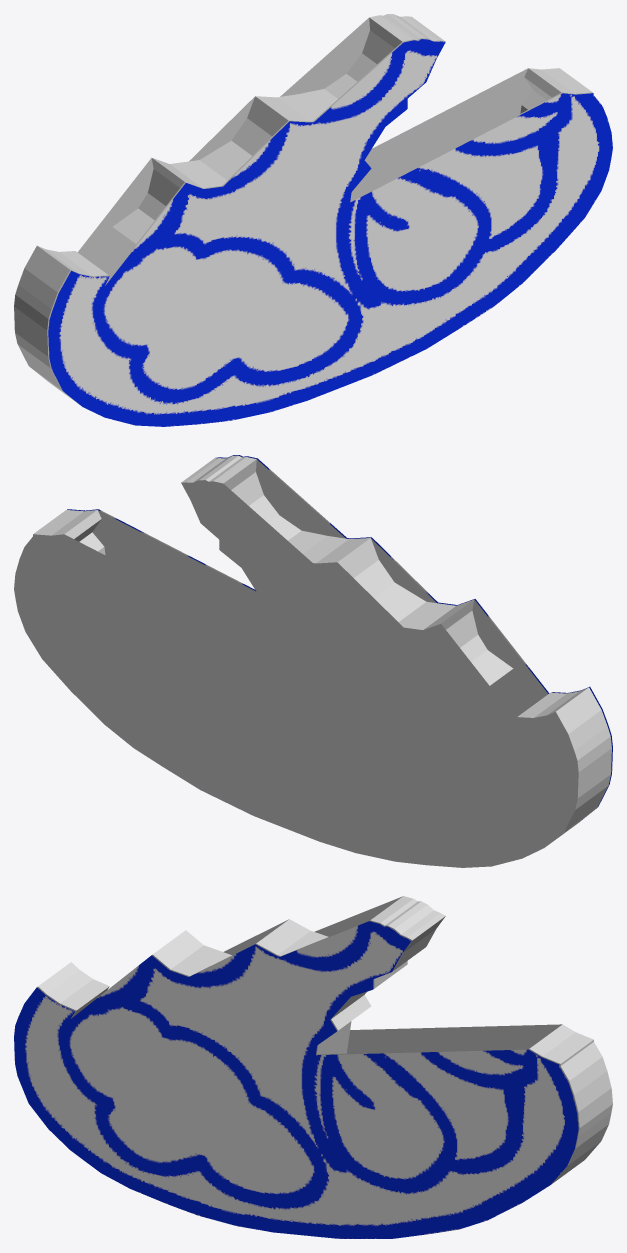
3 renders of one model, top to bottom at view 1: azimuth 30°, elevation 25°; view 2: azimuth 150°, elevation 25°; view 3: azimuth 330°, elevation 25°, orthographic.
Visible parts, largest first — view 1: In_4_1, In_4_0; view 2: In_4_0, In_4_1; view 3: In_4_1, In_4_0.
Part boxes in pixels (box(x1,y1,x2,y2)): In_4_1: box(48, 39, 612, 426); In_4_0: box(14, 14, 592, 404); In_4_0: box(14, 455, 611, 867); In_4_1: box(67, 455, 612, 819); In_4_1: box(14, 921, 578, 1238); In_4_0: box(37, 896, 612, 1183).
Bounding box in the file's own units: 4.89 × 2.79 × 0.515.
2 materials, 1 textured.
